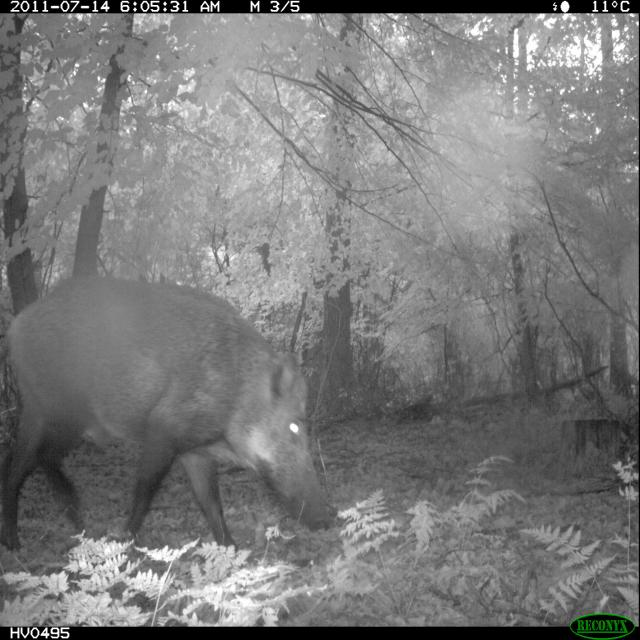boar: (5, 254, 304, 565)
